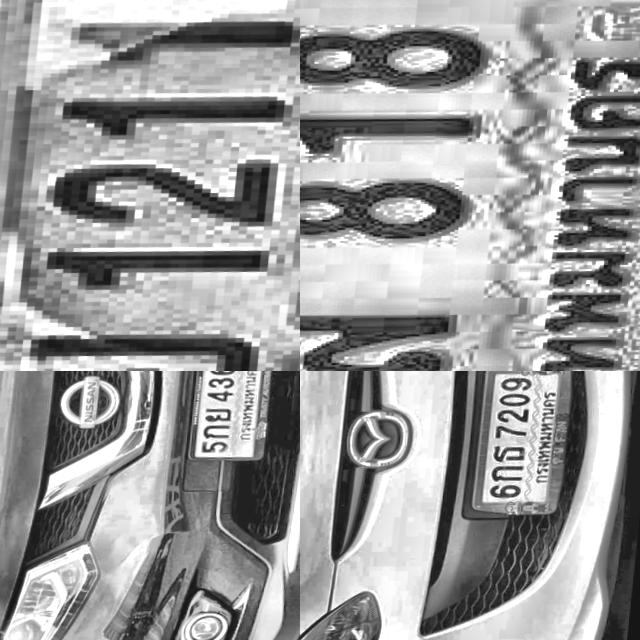license-plate: (300, 0, 640, 371), (0, 0, 300, 371), (468, 371, 586, 530), (189, 371, 282, 472)
